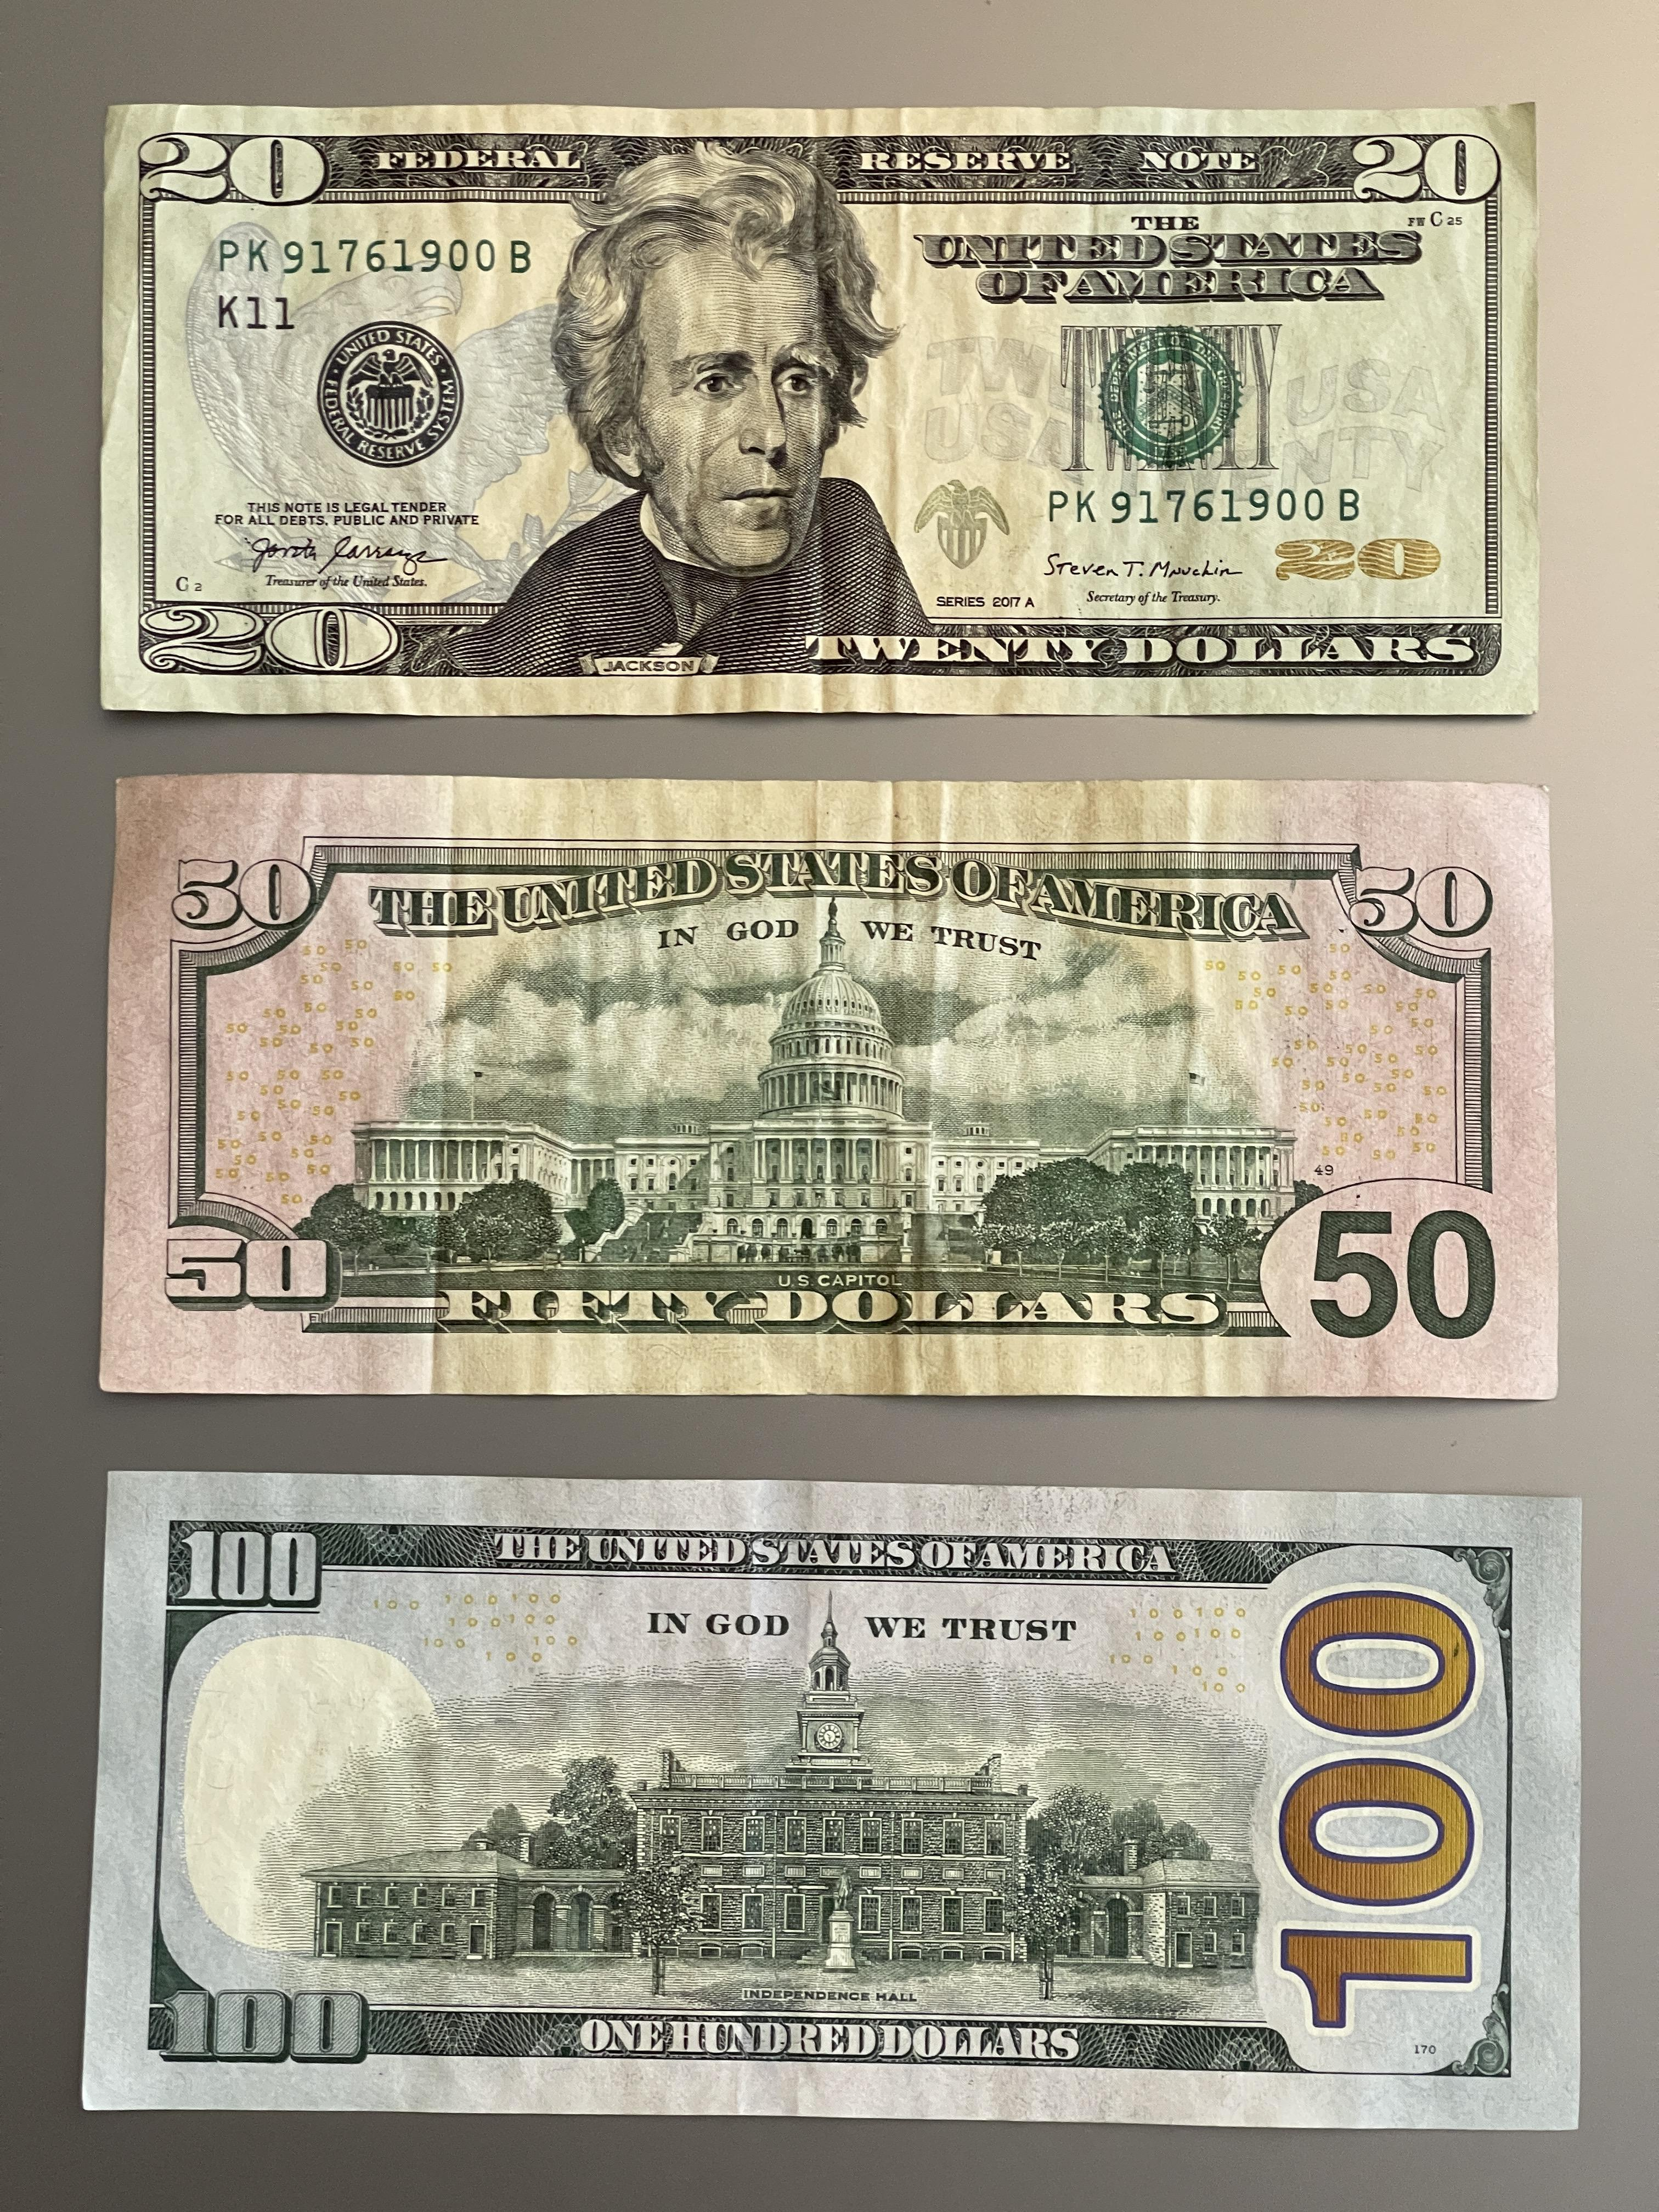FiftyBill: (94, 768, 1565, 1406)
HundredBill: (77, 1463, 1588, 2137)
TwentyBill: (96, 98, 1544, 726)
